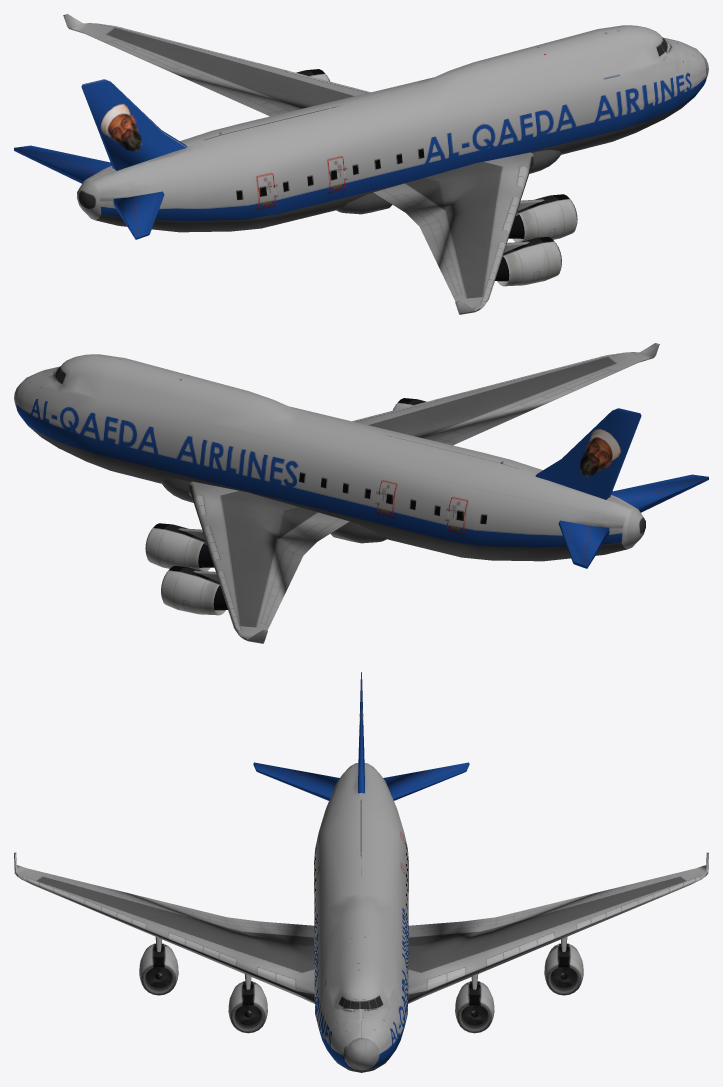
3 views of the same model, one above another, from view 1: azimuth 30°, elevation 25°; view 2: azimuth 150°, elevation 25°; view 3: azimuth 270°, elevation 25° (orthographic). The views are drawn at different scales.
Visible parts, largest first — view 1: UVtenkai__JetA; view 2: UVtenkai__JetA; view 3: UVtenkai__JetA.
Boxes of the visible parts, bbox=[...] form: UVtenkai__JetA: bbox=[14, 14, 708, 314]; UVtenkai__JetA: bbox=[14, 343, 708, 643]; UVtenkai__JetA: bbox=[14, 672, 708, 1072].
Bounding box in the file's own units: 3.18 × 0.989 × 3.43.
